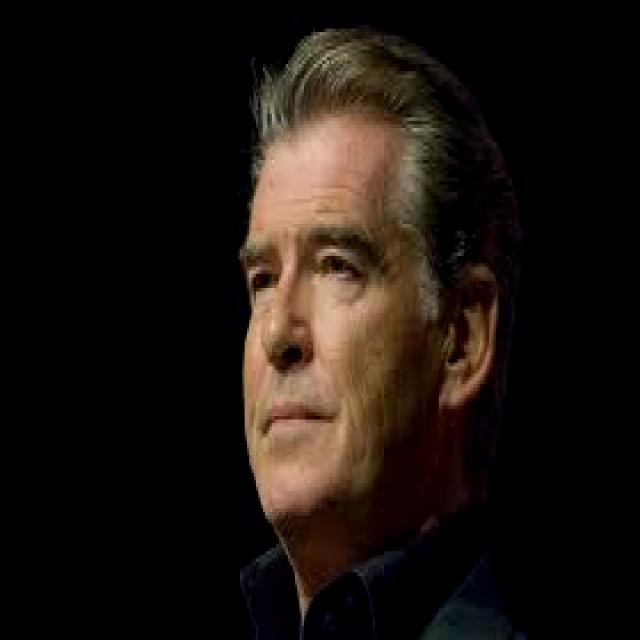normal_face: (215, 76, 462, 533)
